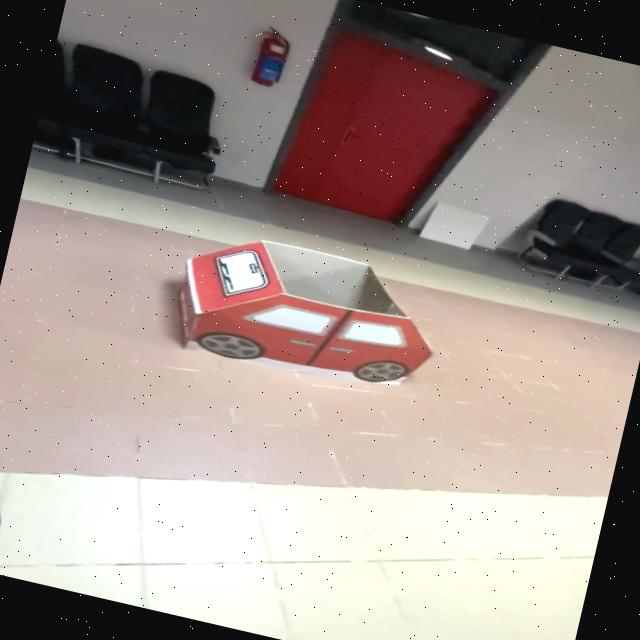red_car: (124, 211, 489, 442)
